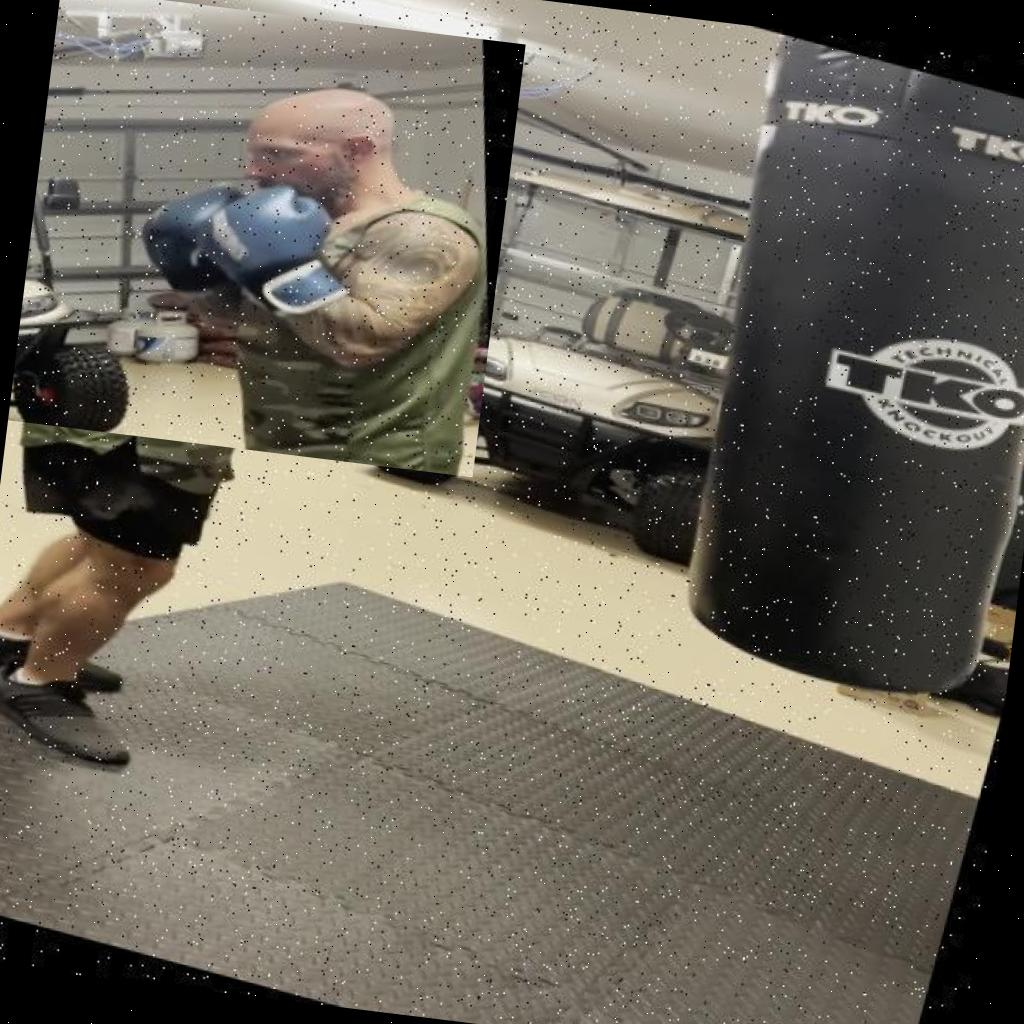hook: (8, 0, 525, 477)
